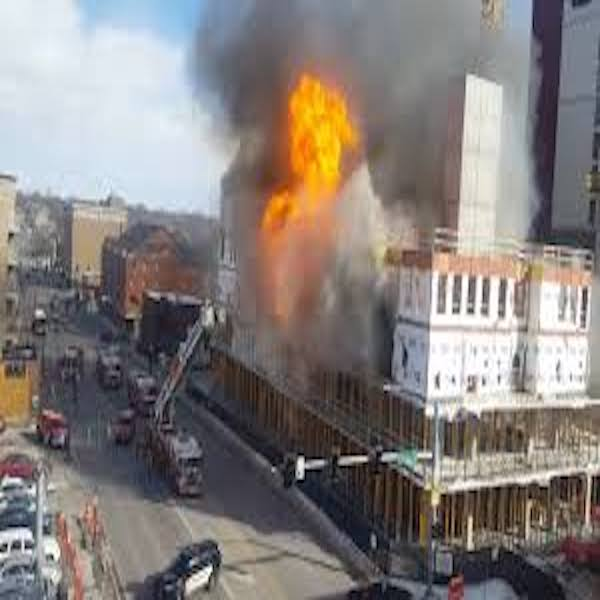fire: (242, 75, 383, 283)
